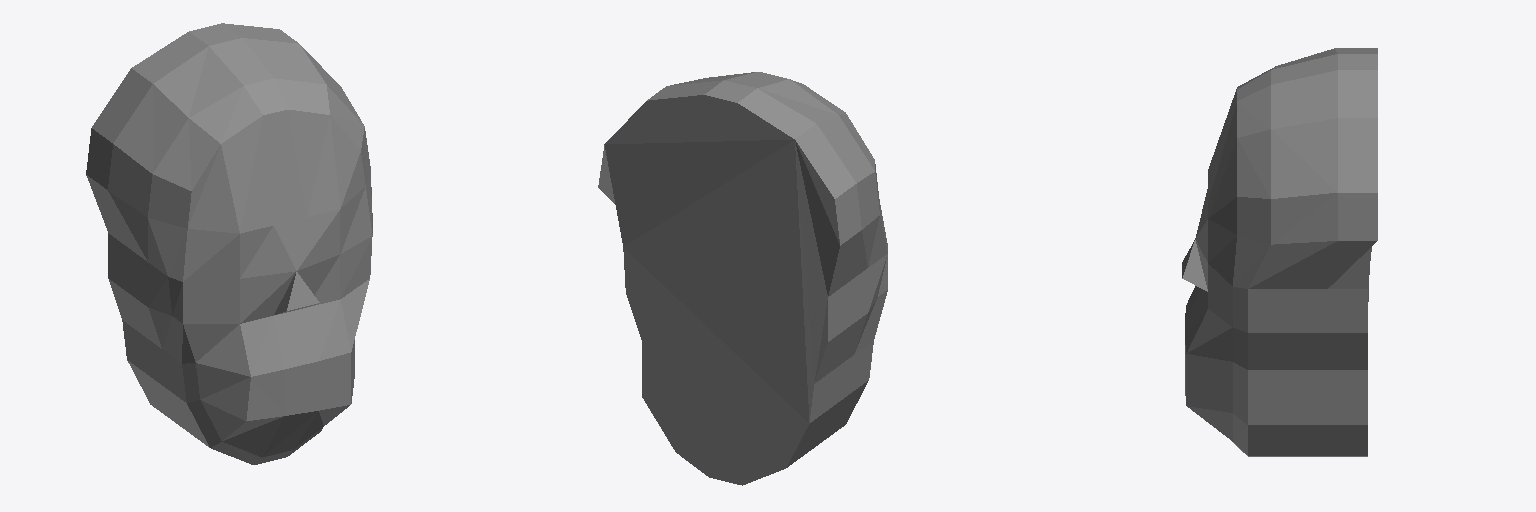
Rendered from skull.obj.
The picture shows the model from 3 angles: view 1: azimuth 30°, elevation 25°; view 2: azimuth 150°, elevation 25°; view 3: azimuth 270°, elevation 25°; orthographic projection.
Parts seen in each view (by area): view 1: Box001; view 2: Box001; view 3: Box001.
Boxes of the visible parts, x1=… form: Box001: x1=86, y1=23, x2=372, y2=464; Box001: x1=598, y1=72, x2=887, y2=485; Box001: x1=1182, y1=48, x2=1377, y2=456.
Size of the model in its own units: 0.1614 by 0.2461 by 0.1128.